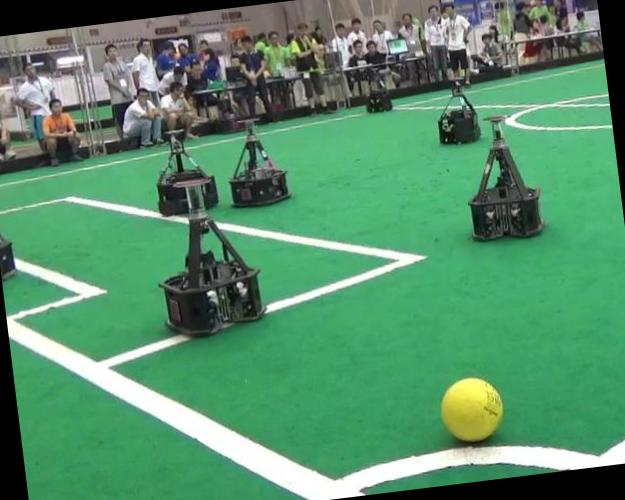ball: (440, 377, 503, 442)
person: (290, 24, 329, 114), (443, 5, 471, 84)
robot: (159, 179, 265, 336), (468, 116, 543, 239), (157, 130, 218, 216), (229, 130, 288, 206), (437, 82, 480, 143), (367, 70, 391, 111)
